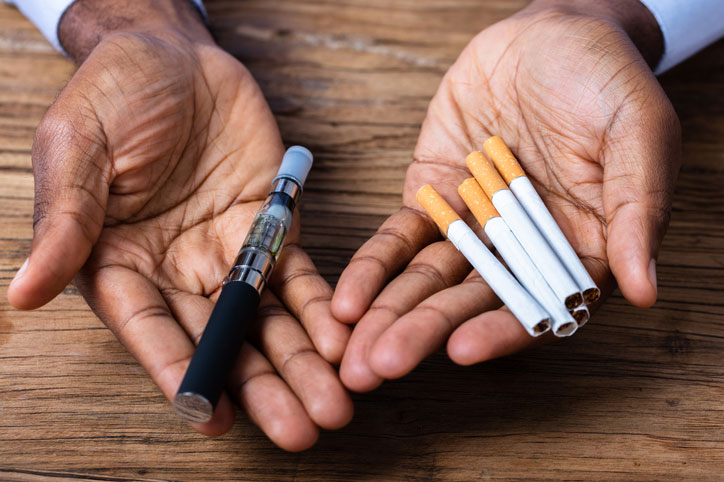cigarette: (417, 139, 601, 339)
